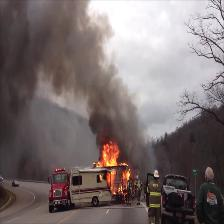fire: (96, 142, 120, 164)
smoke: (1, 18, 96, 73), (90, 86, 138, 138)
